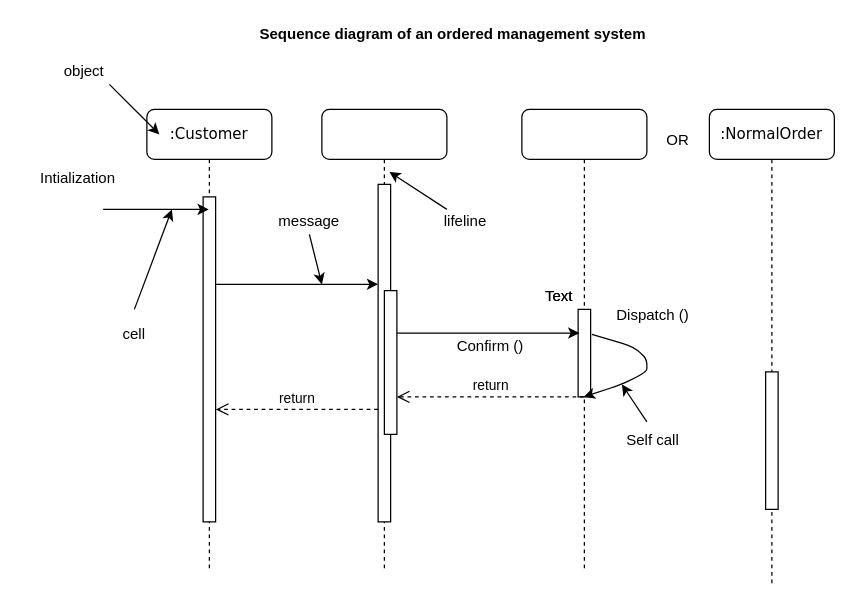
Image size: 856x606. Some labels were removed from this diagram. Each missing label, with the box of its shape:
:Order: (321, 108, 447, 572)
:SpecialOrder: (521, 108, 647, 572)
